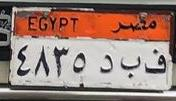3: (51, 46, 70, 76)
4: (13, 44, 30, 76)
5: (71, 52, 86, 73)
8: (36, 45, 48, 76)
baa: (118, 54, 141, 77)
daal: (98, 52, 114, 74)
faa: (144, 48, 166, 73)
